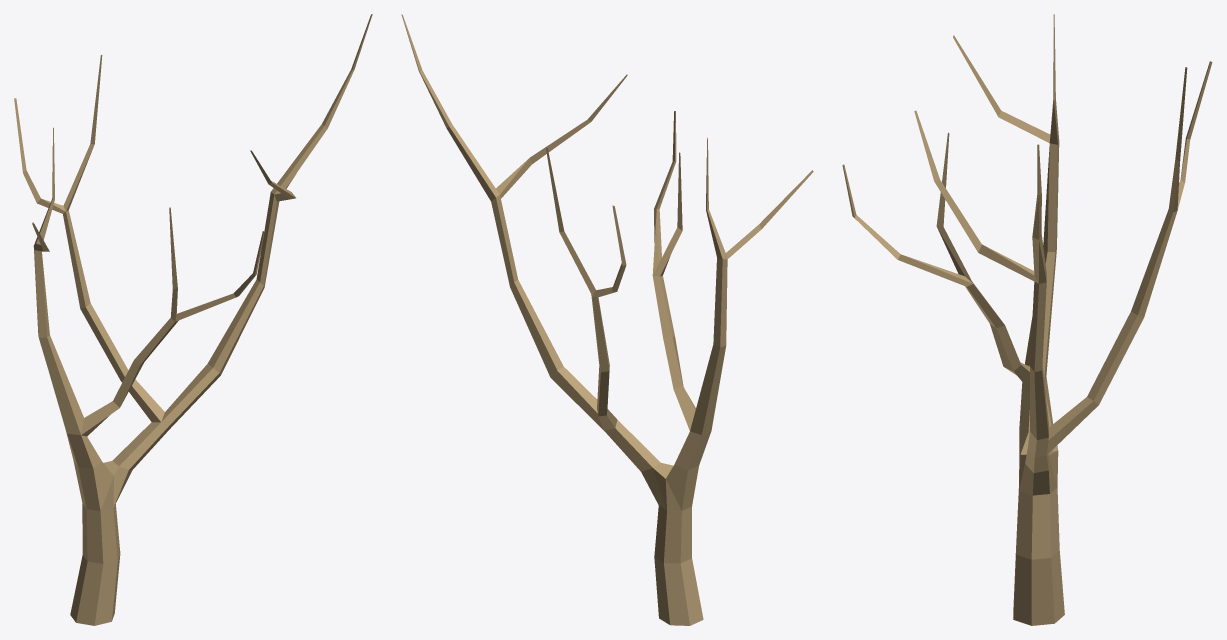
Rendered from Acacia_Tree_NoLeaves_l_BT_02.fbx.
3 renders of one model, left to right at view 1: azimuth 30°, elevation 25°; view 2: azimuth 150°, elevation 25°; view 3: azimuth 270°, elevation 25°, orthographic. The views are drawn at different scales.
Visible parts, largest first — view 1: Acacia_Tree_NoLeaves_l_BT_02; view 2: Acacia_Tree_NoLeaves_l_BT_02; view 3: Acacia_Tree_NoLeaves_l_BT_02.
Part boxes in pixels (bbox=[...]): Acacia_Tree_NoLeaves_l_BT_02: bbox=[14, 14, 372, 625]; Acacia_Tree_NoLeaves_l_BT_02: bbox=[401, 14, 813, 625]; Acacia_Tree_NoLeaves_l_BT_02: bbox=[842, 14, 1212, 625].
Size of the model in its own units: 834 by 1131 by 600.
